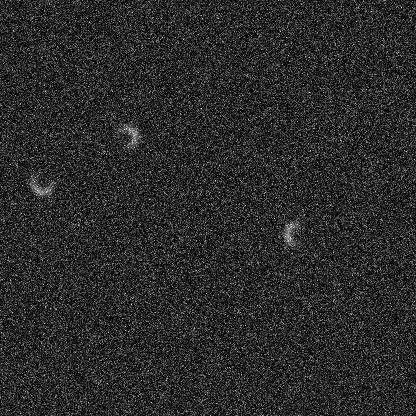Janus: (280, 218, 310, 248), (27, 167, 57, 197), (110, 122, 140, 152)
